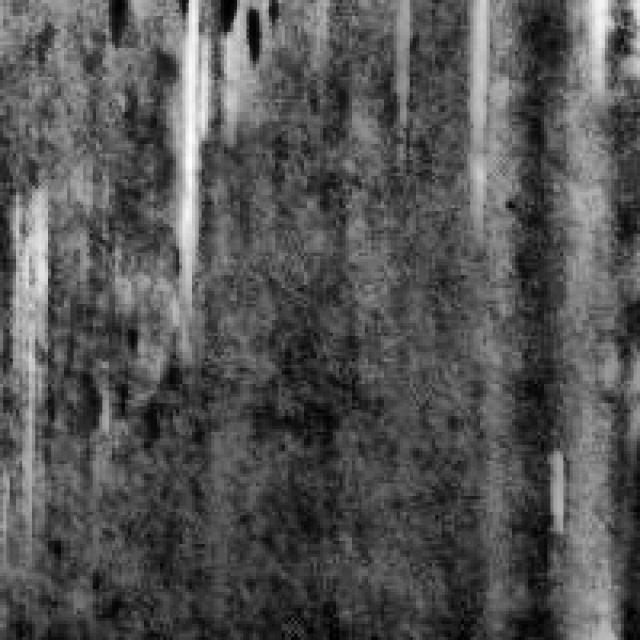Inclusion: (166, 0, 211, 294), (461, 0, 493, 218)
